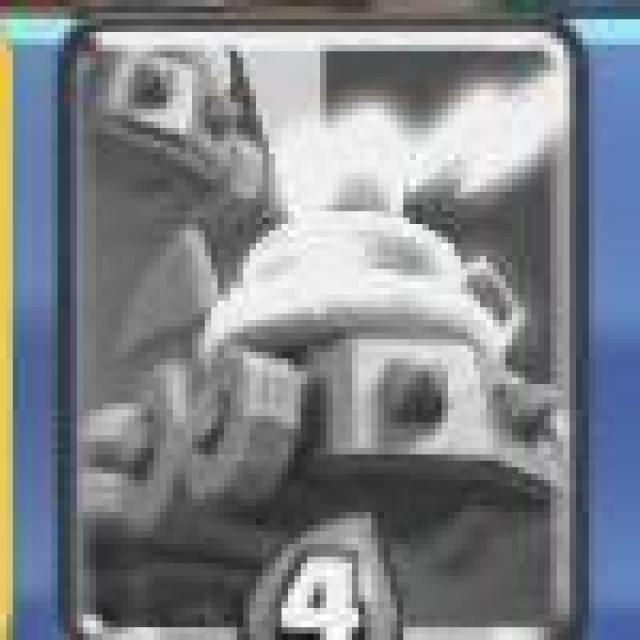Zappies: (53, 14, 581, 640)
